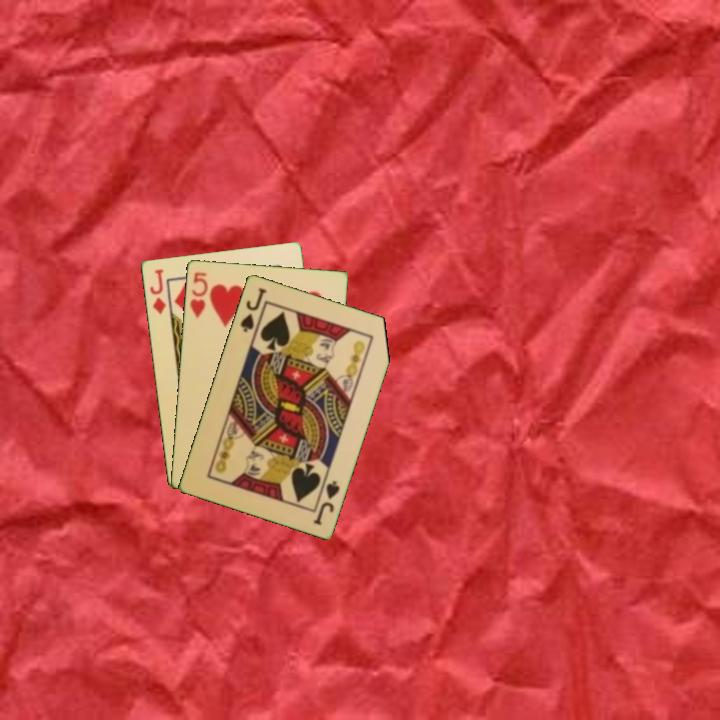5h: (186, 268, 211, 321)
Jd: (146, 265, 168, 317)
Js: (237, 284, 270, 335), (309, 477, 342, 527)
